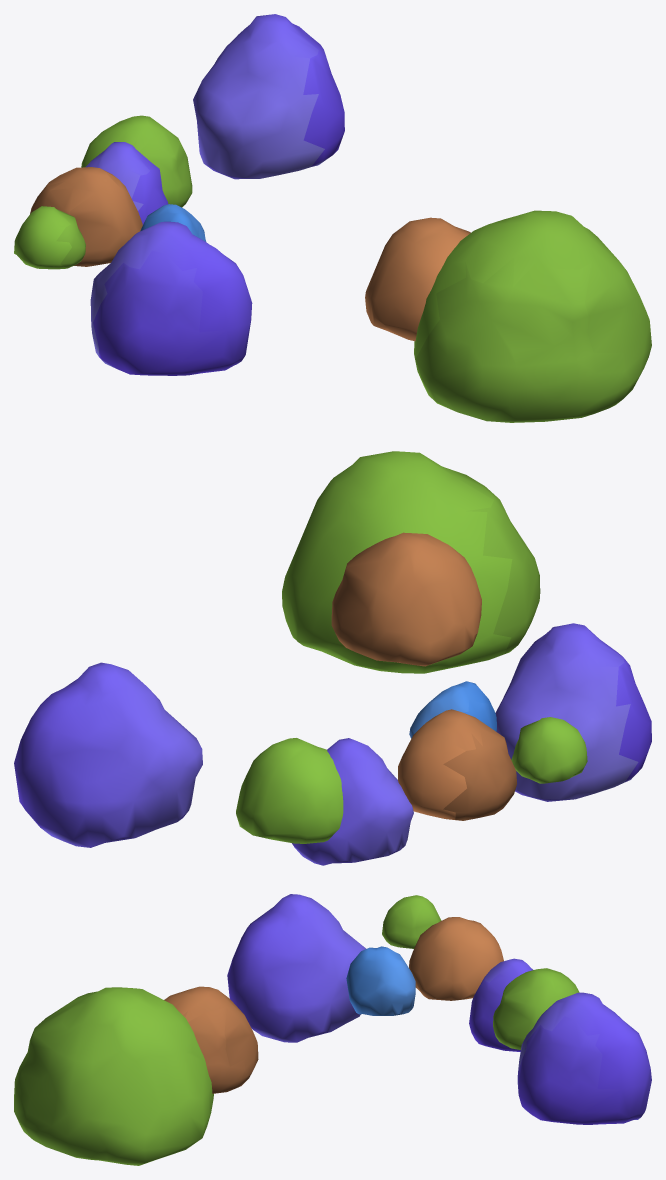
Rendered from Mountains.glb.
3 renders of one model, top to bottom at view 1: azimuth 30°, elevation 25°; view 2: azimuth 150°, elevation 25°; view 3: azimuth 270°, elevation 25°, orthographic. The views are drawn at different scales.
Visible parts, largest first — view 1: Cube.002; view 2: Cube.002; view 3: Cube.002.
Boxes of the visible parts, <box> form: Cube.002: <box>14,14,651,422</box>; Cube.002: <box>14,451,651,865</box>; Cube.002: <box>14,894,651,1165</box>.
Bounding box in the file's own units: 487 × 172 × 716.
Materials: 1 (1 with a texture image).
